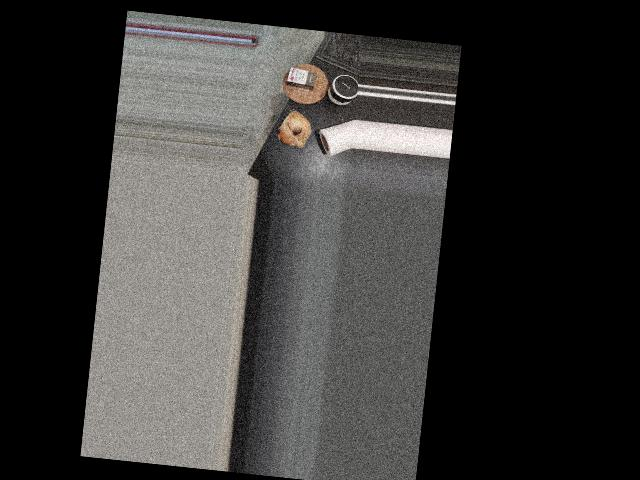onion: (274, 107, 314, 150)
